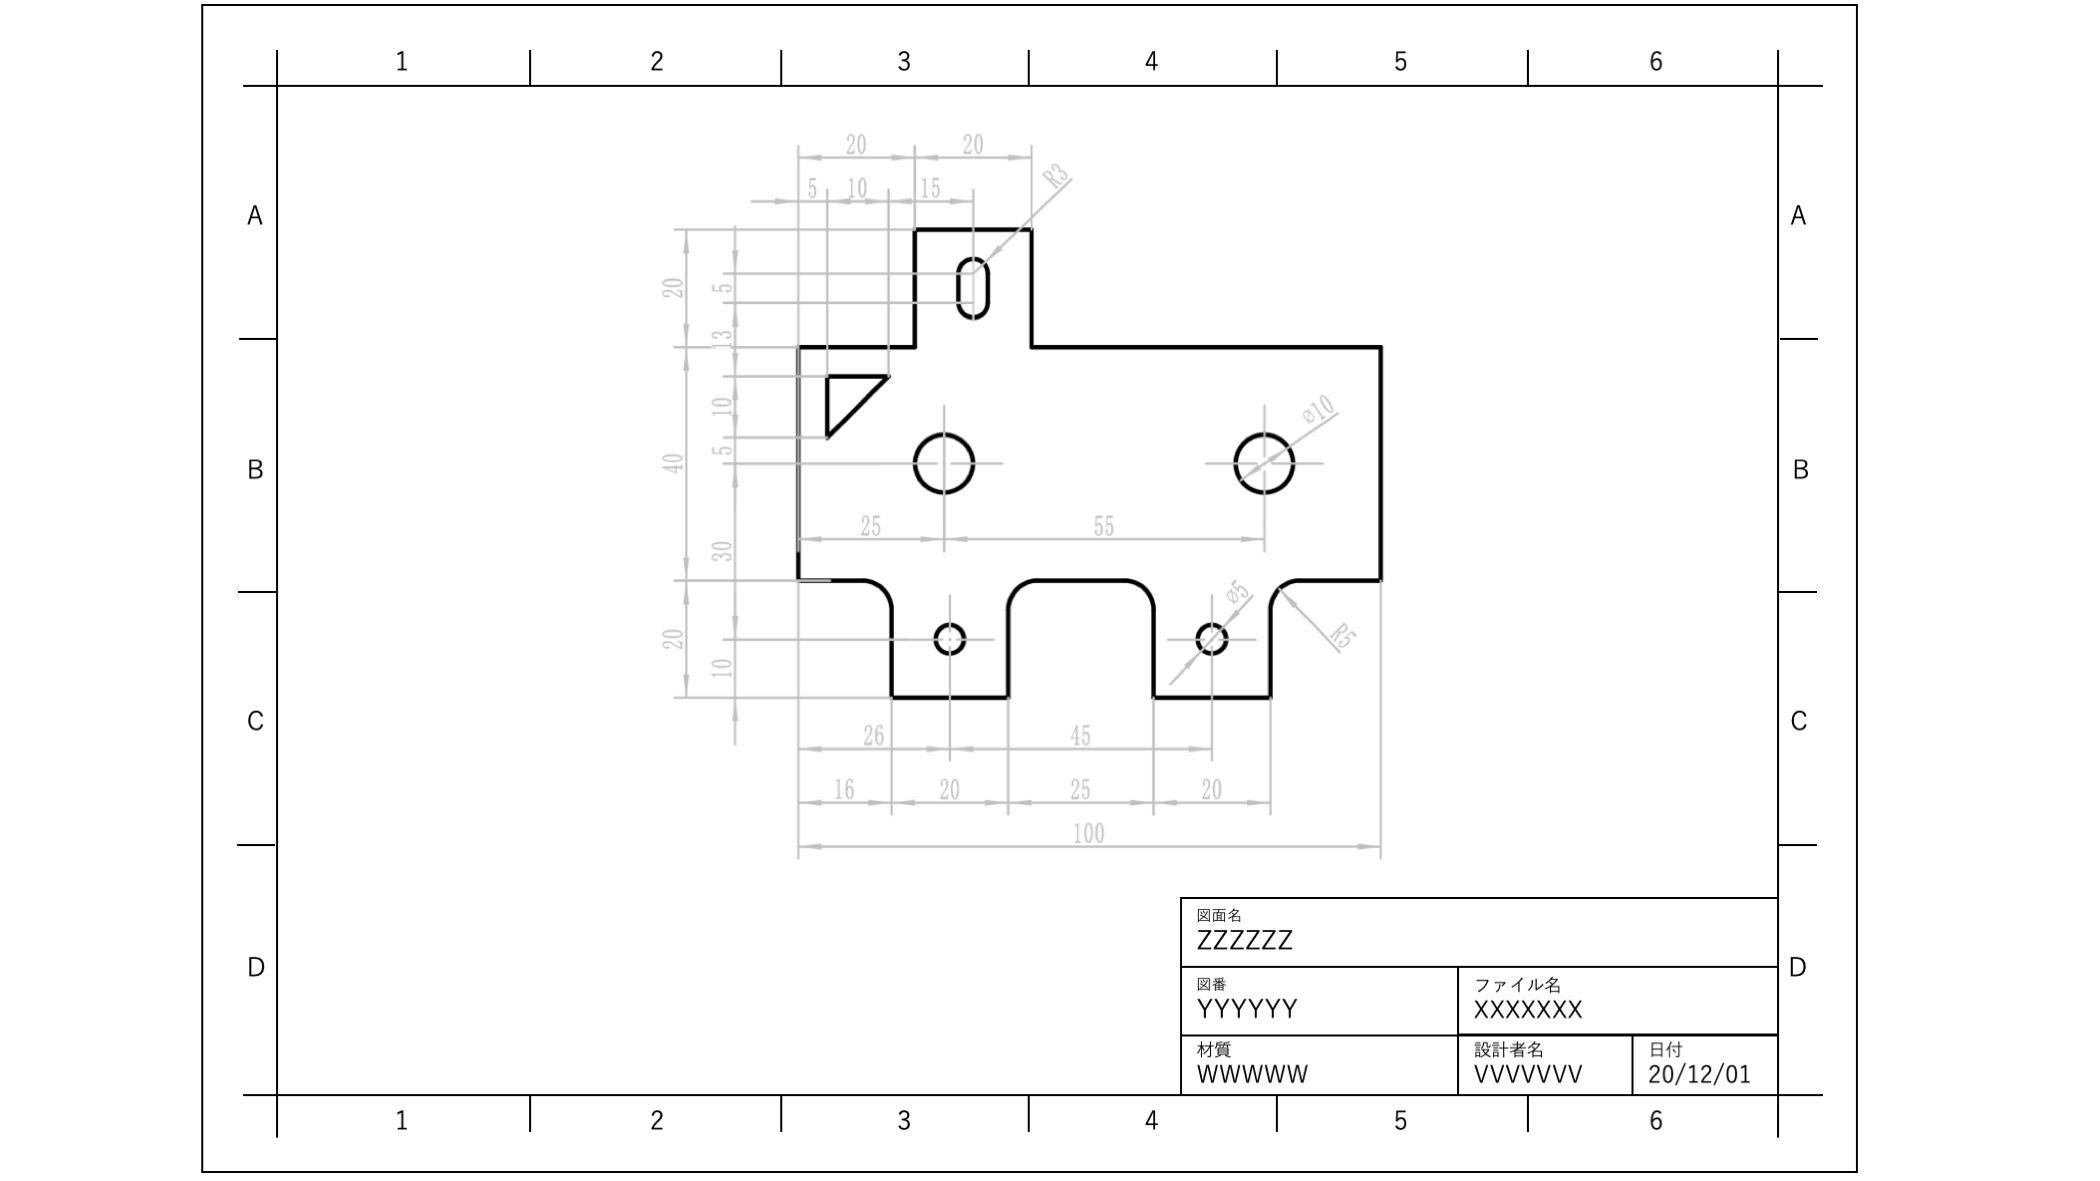circle: (904, 415, 976, 500), (1230, 424, 1298, 497), (926, 619, 978, 660), (1191, 614, 1232, 658)
round_rectangle: (949, 244, 994, 329)
triangle: (812, 359, 891, 443)
